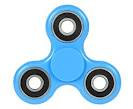fidget_spinner: (2, 0, 125, 104)
